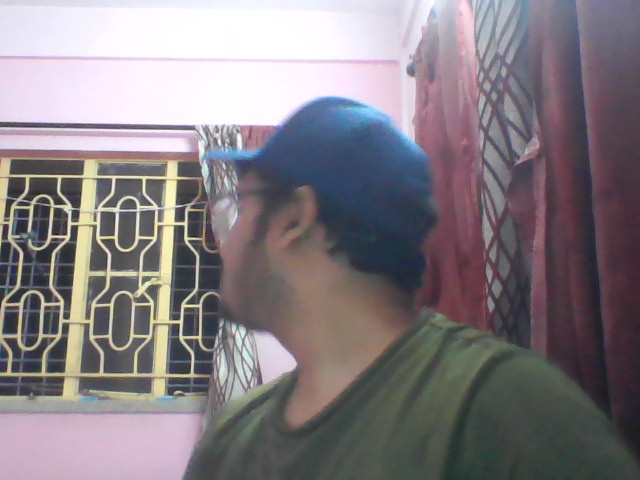Helmet: (179, 43, 449, 244)
